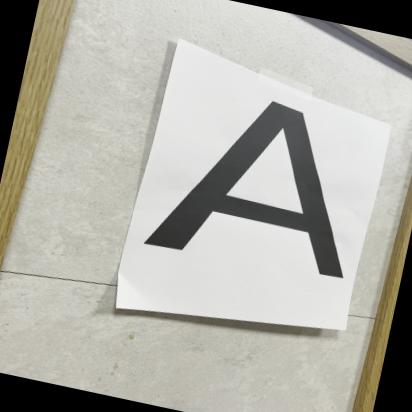seat: (130, 75, 396, 304)
